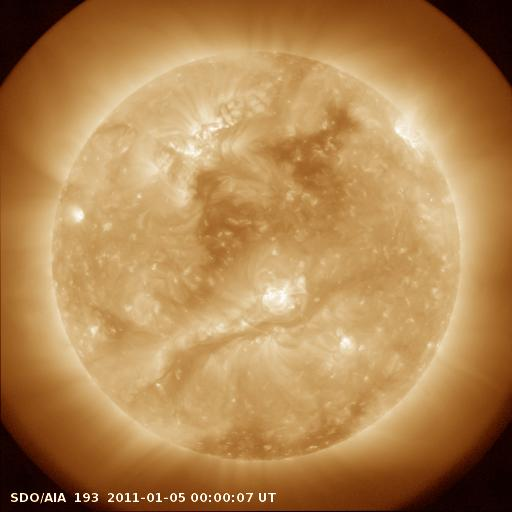coronal_hole: (186, 396, 367, 463), (259, 99, 359, 194), (188, 162, 255, 281)
